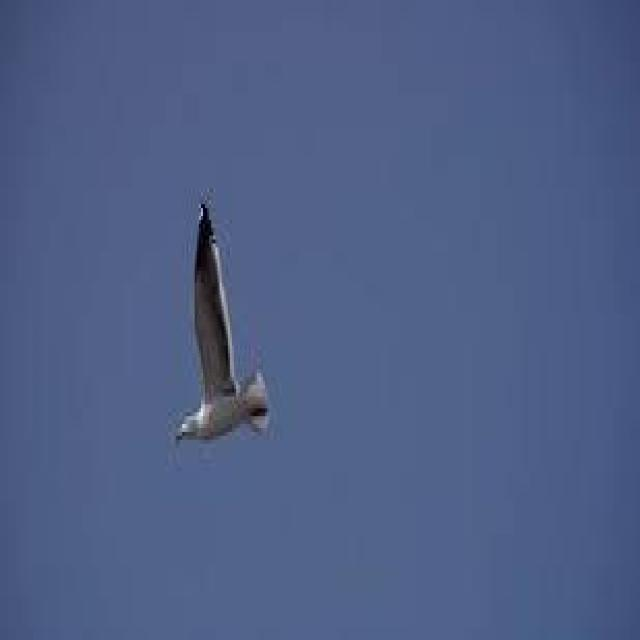bird: (173, 198, 272, 450)
